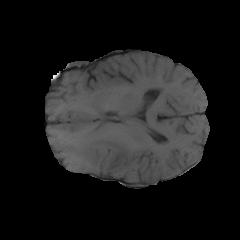glioma: (76, 130, 134, 174)
